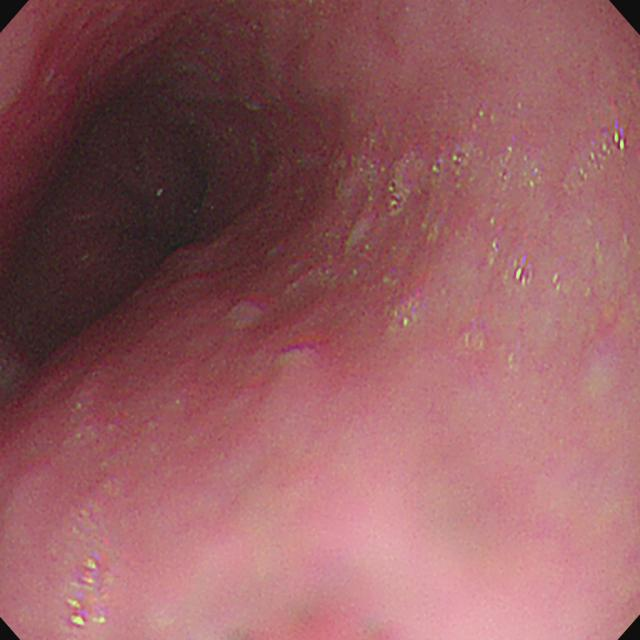T: (381, 180, 408, 220)
U: (64, 546, 107, 632), (508, 257, 541, 294), (603, 121, 629, 162)
